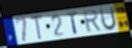2: (51, 14, 65, 37)
7: (14, 16, 28, 44)
R: (82, 9, 103, 34)
T: (30, 14, 44, 42), (66, 12, 79, 35)
U: (98, 5, 118, 32)
